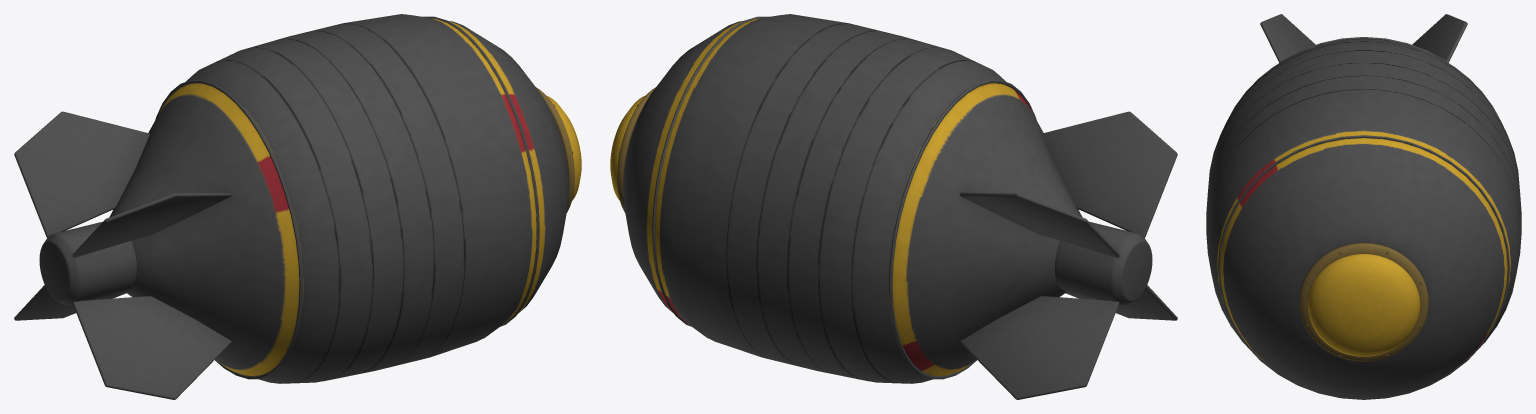
File: bomb.obj
3 renders of one model, left to right at view 1: azimuth 30°, elevation 25°; view 2: azimuth 150°, elevation 25°; view 3: azimuth 270°, elevation 25°, orthographic. The views are drawn at different scales.
Visible parts, largest first — view 1: bomb_MaterialGroup_03, bomb_MaterialGroup_02.002, bomb_MaterialGroup_02.004, bomb_MaterialGroup_02, bomb_MaterialGroup_02.003, Curved_casing_band, Curved_casing_band.001, bomb_MaterialGroup_02.001, bomb_MaterialGroup_01, bomb_MaterialGroup_00; view 2: bomb_MaterialGroup_03, bomb_MaterialGroup_02.001, bomb_MaterialGroup_02.003, bomb_MaterialGroup_02, bomb_MaterialGroup_02.004, Curved_casing_band, Curved_casing_band.001, bomb_MaterialGroup_02.002, bomb_MaterialGroup_01, bomb_MaterialGroup_00; view 3: bomb_MaterialGroup_03, bomb_MaterialGroup_00, bomb_MaterialGroup_01, Curved_casing_band.001, bomb_MaterialGroup_02.004, bomb_MaterialGroup_02.003, Curved_casing_band.
Part boxes in pixels (x1,y1,x2,y2): bomb_MaterialGroup_03: (109,14,568,383); bomb_MaterialGroup_02.002: (72,296,231,399); bomb_MaterialGroup_02.004: (14,111,149,237); bomb_MaterialGroup_02: (39,221,136,305); bomb_MaterialGroup_02.003: (72,192,231,257); Curved_casing_band: (155,80,303,379); Curved_casing_band.001: (422,16,539,326); bomb_MaterialGroup_02.001: (14,285,126,320); bomb_MaterialGroup_01: (536,87,574,212); bomb_MaterialGroup_00: (547,96,581,200); bomb_MaterialGroup_03: (623,14,1082,383); bomb_MaterialGroup_02.001: (960,296,1119,399); bomb_MaterialGroup_02.003: (1042,111,1177,237); bomb_MaterialGroup_02: (1055,221,1152,305); bomb_MaterialGroup_02.004: (960,192,1119,257); Curved_casing_band: (888,80,1036,379); Curved_casing_band.001: (652,16,769,326); bomb_MaterialGroup_02.002: (1065,285,1177,320); bomb_MaterialGroup_01: (617,87,655,212); bomb_MaterialGroup_00: (610,96,644,200); bomb_MaterialGroup_03: (1206,39,1521,399); bomb_MaterialGroup_00: (1307,254,1420,356); bomb_MaterialGroup_01: (1299,243,1428,361); Curved_casing_band.001: (1218,135,1509,399); bomb_MaterialGroup_02.004: (1412,14,1467,62); bomb_MaterialGroup_02.003: (1260,14,1315,62); Curved_casing_band: (1278,37,1449,63).
Bounding box in the file's own units: 2.87 × 1.68 × 1.68.
Materials: 1 (1 with a texture image).
